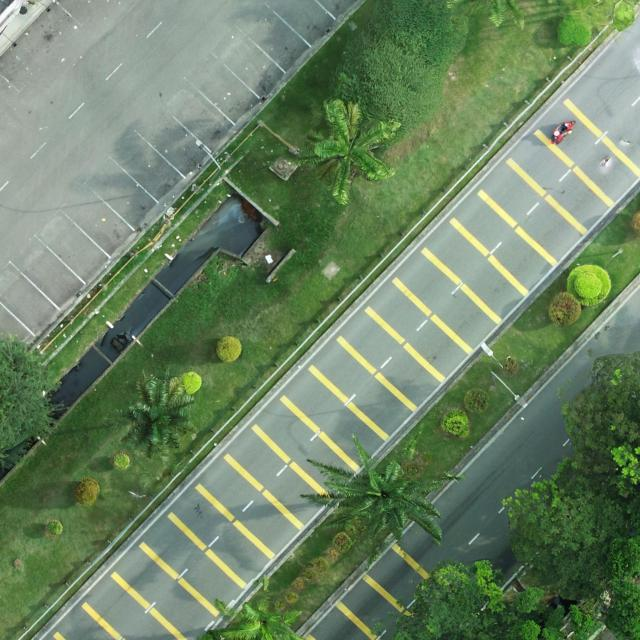Tree: (501, 456, 640, 640), (299, 421, 465, 547), (391, 556, 602, 640), (328, 30, 449, 147), (560, 349, 640, 499), (296, 96, 402, 205), (0, 334, 65, 476), (102, 364, 200, 458), (364, 0, 471, 71), (202, 575, 305, 640), (441, 409, 470, 438), (214, 335, 243, 363), (74, 476, 100, 507), (463, 387, 491, 414), (181, 372, 203, 396), (114, 452, 130, 469), (48, 520, 64, 536)
